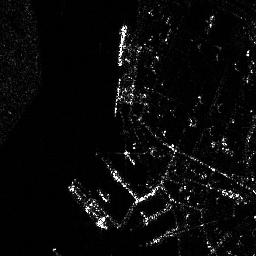ship: (66, 182, 109, 231), (115, 24, 128, 66)
